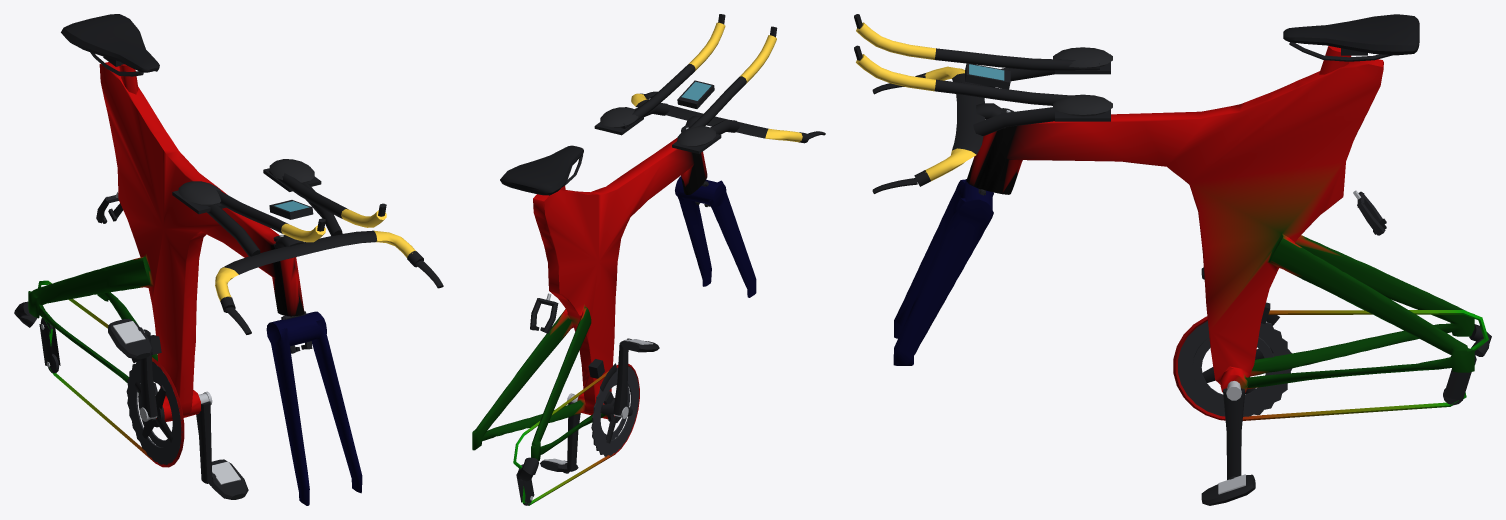
Rendered from espada.glb.
3 views of the same model, side by side, from view 1: azimuth 30°, elevation 25°; view 2: azimuth 150°, elevation 25°; view 3: azimuth 270°, elevation 25° (orthographic). The views are drawn at different scales.
Parts seen in each view (by area): view 1: frame, cockpit, crankset, saddle, opt_derailleur, pedal_R, pedal_L, opt_brakes_rim; view 2: frame, cockpit, crankset, saddle, opt_derailleur, opt_brakes_rim, pedal_R; view 3: frame, cockpit, crankset, saddle, opt_derailleur, pedal_L, opt_brakes_rim.
Part boxes in pixels (<box>): frame: <box>28,62,362,505</box>; cockpit: <box>172,159,443,334</box>; crankset: <box>126,329,212,483</box>; saddle: <box>61,14,159,76</box>; opt_derailleur: <box>14,301,161,373</box>; pedal_R: <box>108,318,153,359</box>; pedal_L: <box>209,459,248,499</box>; opt_brakes_rim: <box>96,191,312,353</box>; frame: <box>472,137,756,505</box>; cockpit: <box>594,14,825,153</box>; crankset: <box>567,340,639,471</box>; saddle: <box>500,145,583,195</box>; opt_derailleur: <box>516,359,616,505</box>; opt_brakes_rim: <box>530,181,710,333</box>; pedal_R: <box>621,338,659,352</box>; frame: <box>893,46,1488,420</box>; cockpit: <box>854,14,1112,193</box>; crankset: <box>1178,321,1292,479</box>; saddle: <box>1283,14,1419,61</box>; opt_derailleur: <box>1261,302,1491,405</box>; pedal_L: <box>1201,474,1255,505</box>; opt_brakes_rim: <box>978,189,1386,235</box>.
Size of the model in its own units: 0.4423 by 0.8869 by 1.14.
